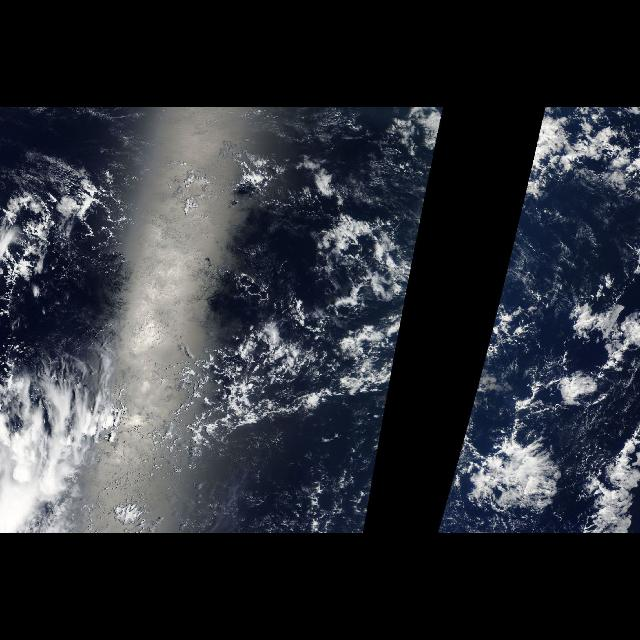Gravel: (192, 265, 388, 435)
Sugar: (199, 403, 387, 531), (0, 116, 142, 214), (511, 200, 639, 304)
